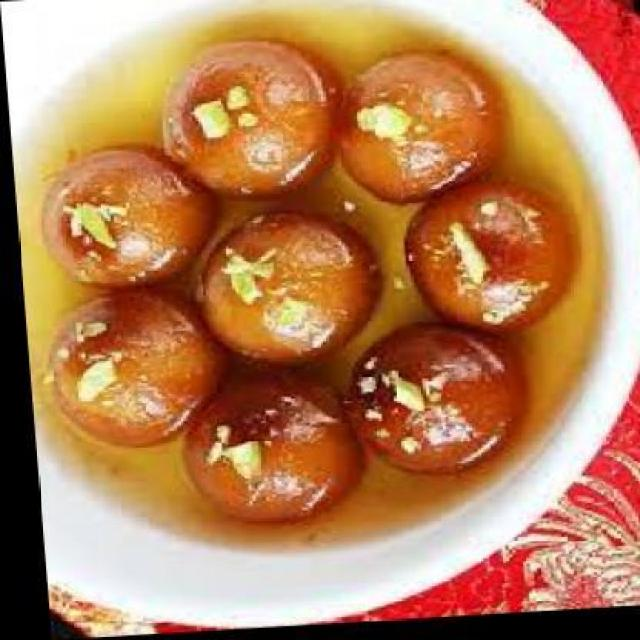gulab_jamun: (155, 35, 348, 206), (186, 208, 382, 374), (37, 286, 234, 451), (171, 369, 360, 531), (336, 322, 524, 484), (31, 140, 220, 294), (397, 180, 569, 345), (326, 54, 505, 209)
